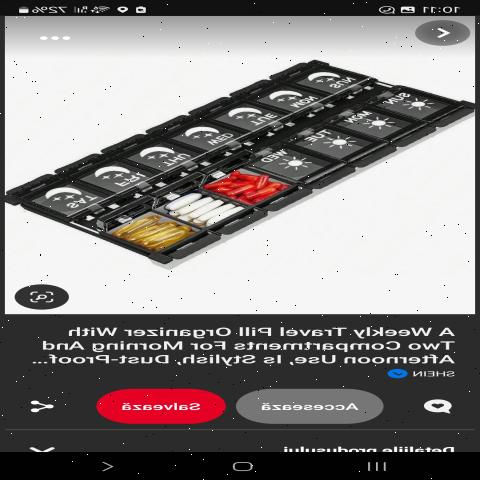Pill-box: (0, 48, 471, 276)
